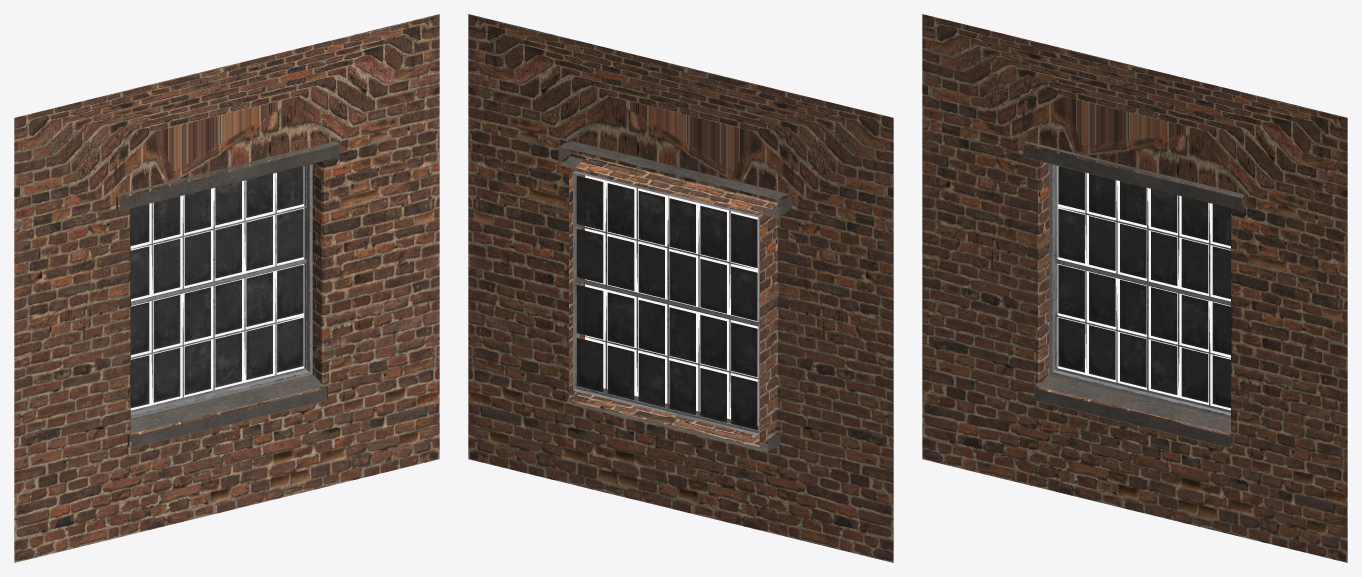
File: bay_window_c_lo.gltf
3 renders of one model, left to right at view 1: azimuth 30°, elevation 25°; view 2: azimuth 150°, elevation 25°; view 3: azimuth 330°, elevation 25°, orthographic.
Parts seen in each view (by area): view 1: bay_window_c_lo; view 2: bay_window_c_lo; view 3: bay_window_c_lo.
Boxes of the visible parts, x1,y1,x2,y2 form: bay_window_c_lo: (14, 14, 439, 562); bay_window_c_lo: (468, 14, 893, 562); bay_window_c_lo: (922, 14, 1347, 562).
Bounding box in the file's own units: 3 × 3 × 0.23.
3 materials, 3 textured.
